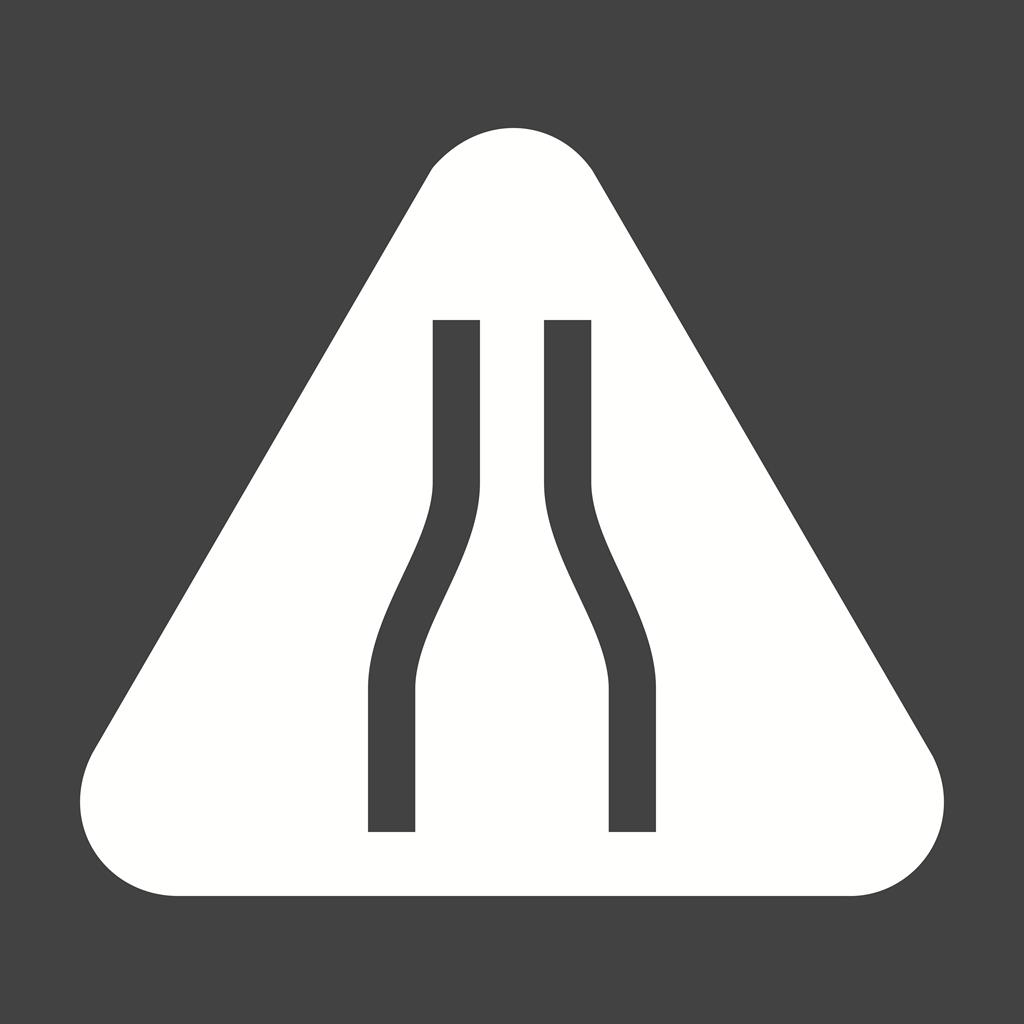narrow-road: (331, 291, 689, 859)
